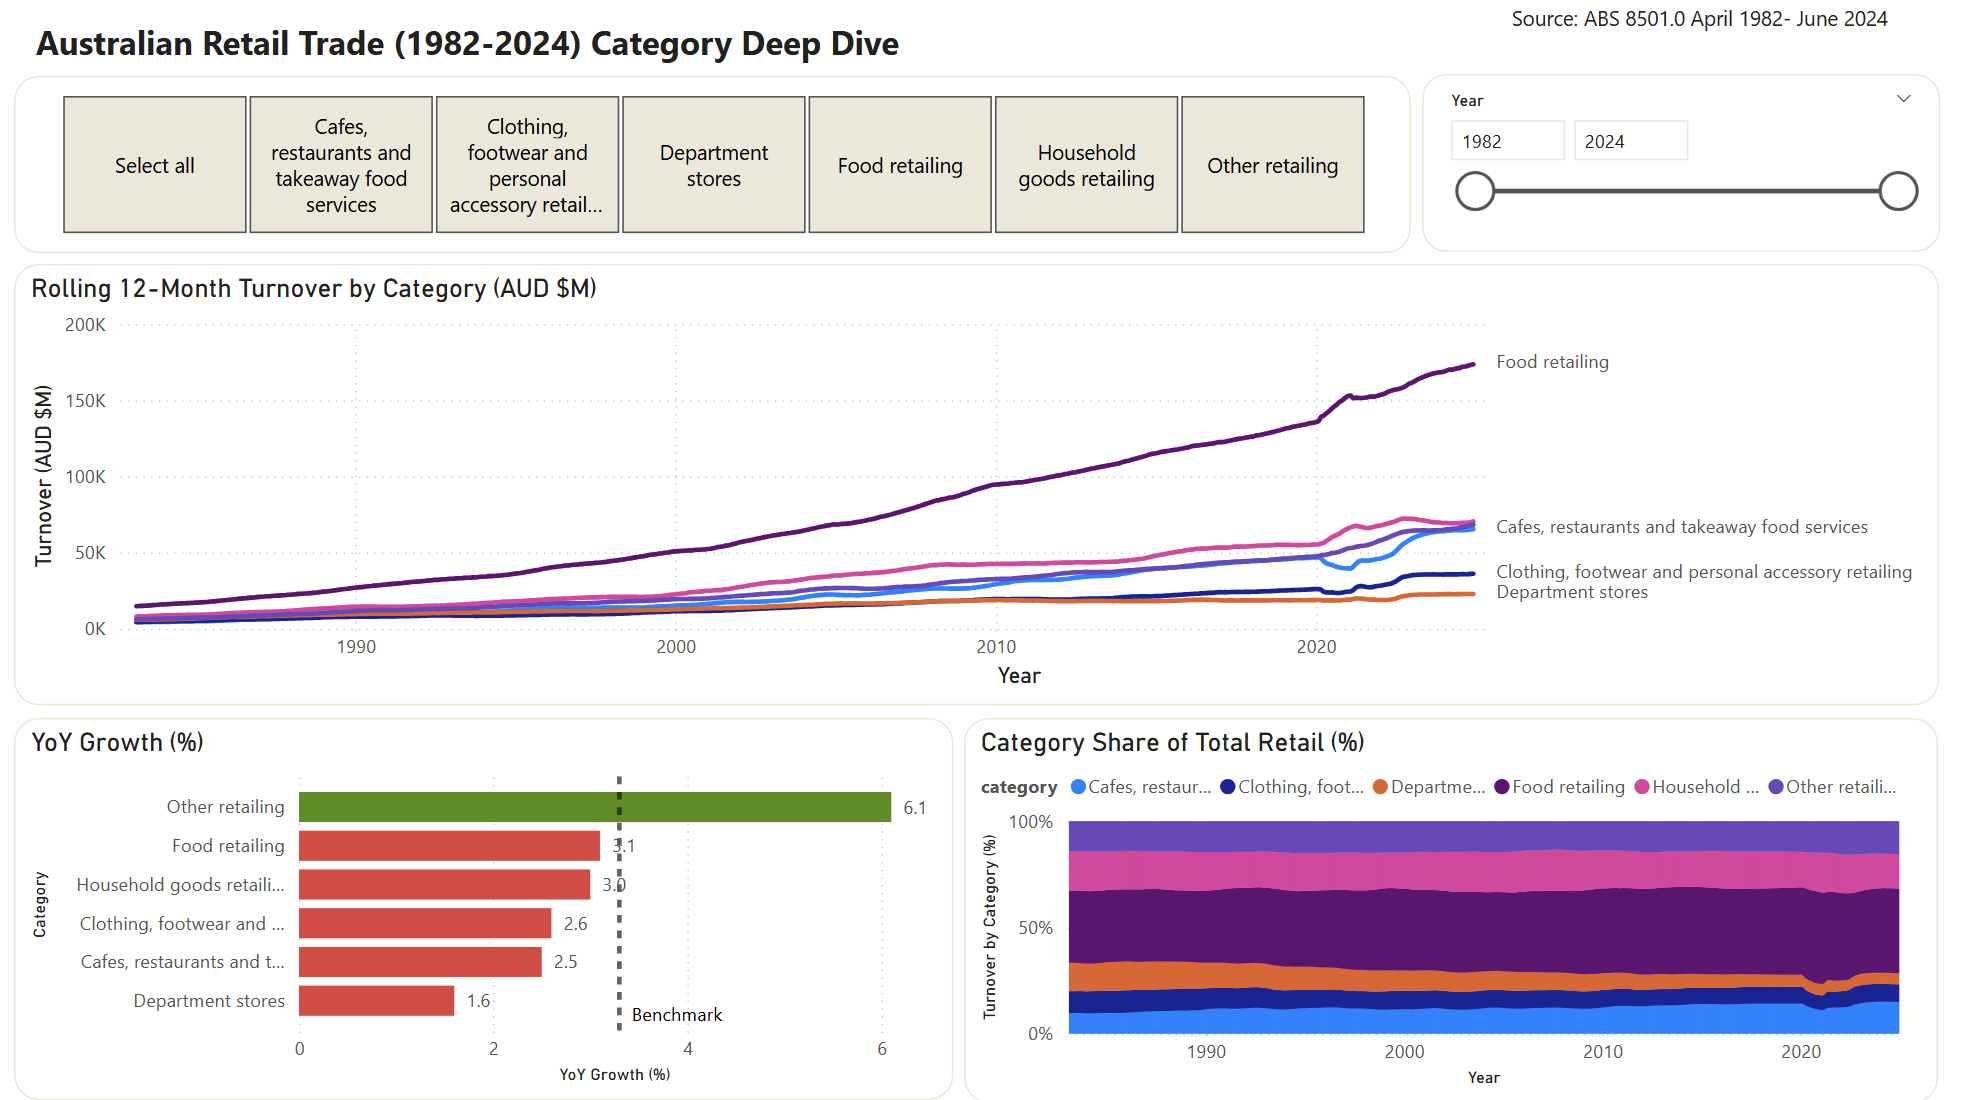

The page's visual inventory and layout, read from the dashboard file:
{"tool":"powerbi","page":{"name":"Category Deep Dive","canvas":[1280,720],"ordinal":1},"visuals":[{"type":"slicer","fields":{"Values":["retail_clean.category"]},"box":[10,54,907,115],"z":0},{"type":"lineChart","title":"Rolling 12-Month Turnover by Category (AUD $M)","fields":{"Category":["retail_yoy_growth.date"],"Y":["Avg(retail_yoy_growth.r12m_turnover)"],"Series":["retail_yoy_growth.category"]},"box":[10,176.4,1250,286.4],"z":1000},{"type":"barChart","title":"YoY Growth (%)","fields":{"Category":["retail_category_ranking.category"],"Y":["Avg(retail_category_ranking.yoy_growth_pct)"]},"box":[10,472,610,248],"z":2000},{"type":"hundredPercentStackedColumnChart","title":"Category Share of Total Retail (%)","fields":{"Category":["retail_yoy_growth.date.Variation.Date Hierarchy.Year"],"Y":["Avg(retail_yoy_growth.r12m_turnover)"],"Series":["retail_yoy_growth.category"]},"box":[627.5,471.7,632.5,250],"z":3000},{"type":"slicer","fields":{"Values":["dim_date.year"]},"box":[924.5,53.6,336.4,115.5],"z":4000},{"type":"textbox","box":[978,2,302,42],"z":5000},{"type":"textbox","box":[20,12.5,583.8,41.2],"z":6000}]}

Visuals, with their boxes in screenshot pixels (x1, y1, x2, y2), scaled from the page's 1280x720 canvas onto the 1968x1100 screenshot:
slicer - retail_clean.category: 15/82/1410/258
"Rolling 12-Month Turnover by Category (AUD $M)" lineChart: 15/270/1937/707
"YoY Growth (%)" barChart: 15/721/953/1099
"Category Share of Total Retail (%)" hundredPercentStackedColumnChart: 965/721/1937/1099
slicer - dim_date.year: 1421/82/1939/258
textbox: 1504/3/1967/67
textbox: 31/19/928/82
